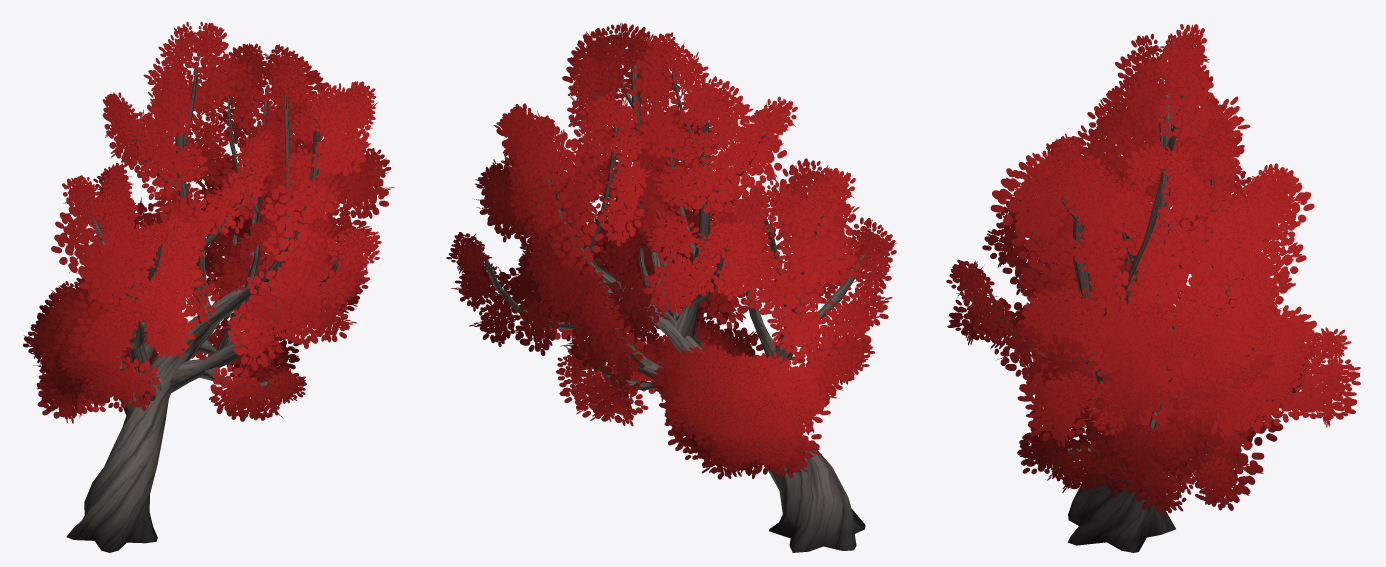
The model's file is TwistedTree_1_s.gltf.
3 views of the same model, side by side, from view 1: azimuth 30°, elevation 25°; view 2: azimuth 150°, elevation 25°; view 3: azimuth 270°, elevation 25° (orthographic). The views are drawn at different scales.
Parts seen in each view (by area): view 1: TwistedTree_1; view 2: TwistedTree_1; view 3: TwistedTree_1.
Part boxes in pixels (x1,y1,x2,y2): TwistedTree_1: (23, 21, 394, 552); TwistedTree_1: (446, 22, 896, 552); TwistedTree_1: (946, 24, 1360, 552).
Size of the model in its own units: 13.52 by 16.73 by 11.55.
Materials: 2 (2 with a texture image).
